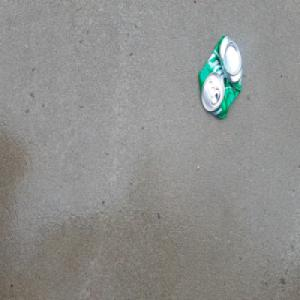SodaCan: (197, 34, 244, 121)
